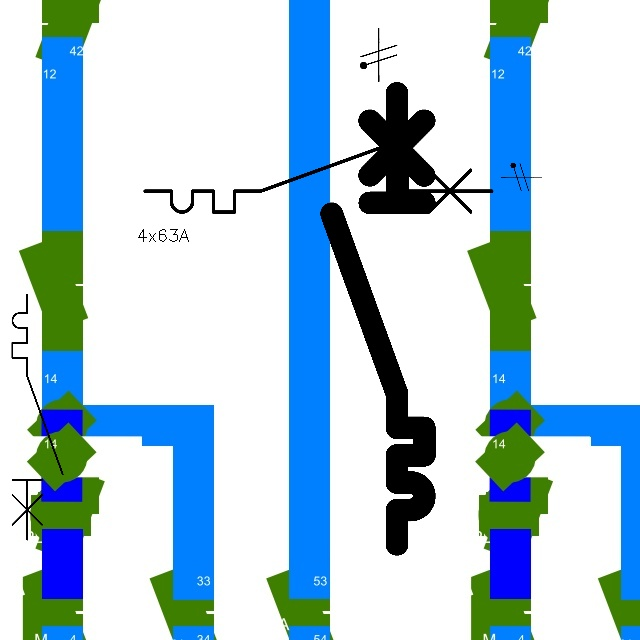interruptor_termomagnetico: (320, 81, 436, 556), (136, 132, 500, 221), (6, 288, 69, 546)
